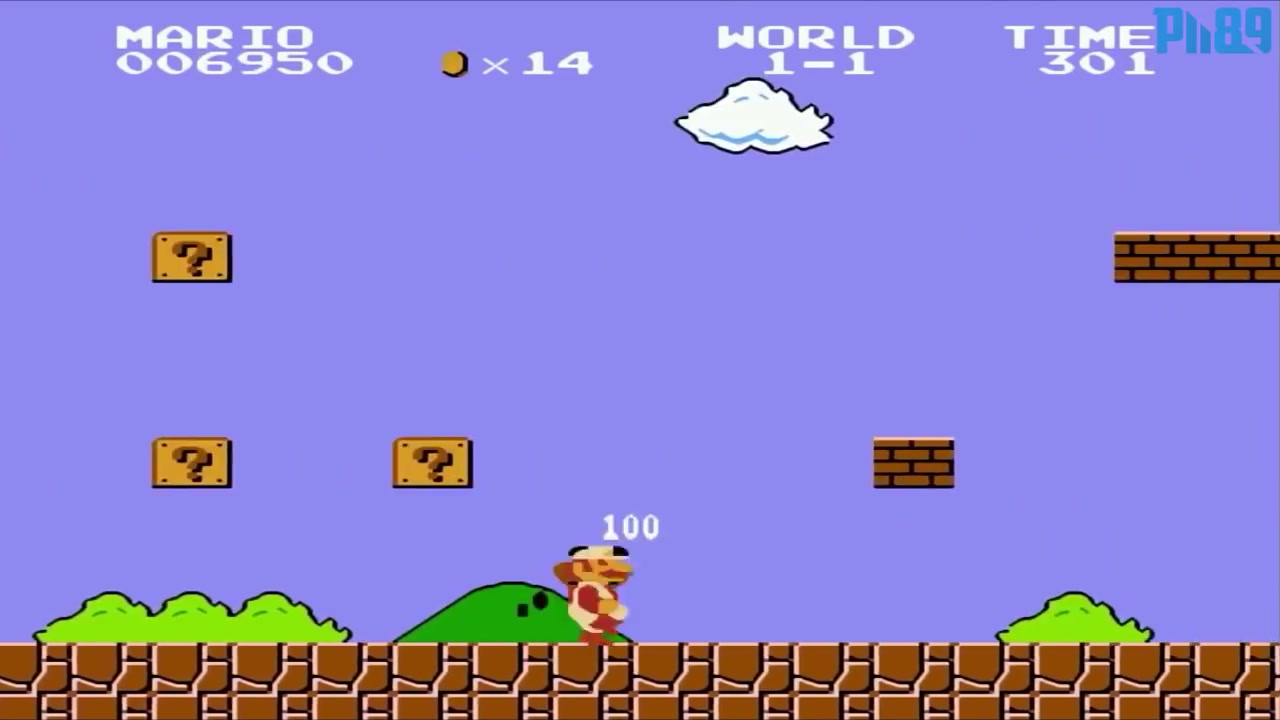mario: (554, 531, 636, 644)
